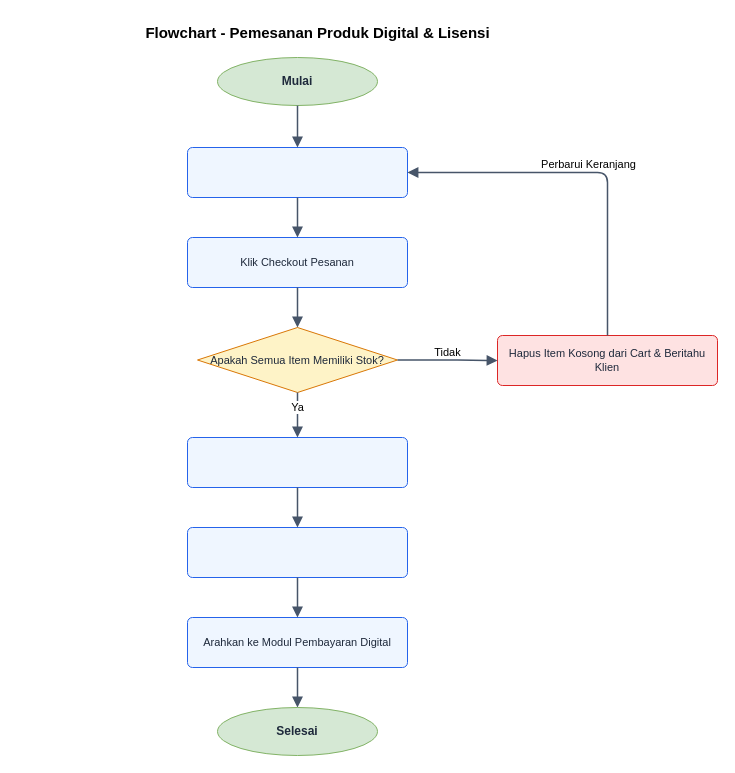
This 735x773 diagram has some shape labels left out. The box of each missing label's shape, as (x1, y1, x2, y2) in pixels:
Buat Data Pesanan (orders & order_items): (186, 436, 408, 488)
Buka Keranjang Belanja & Periksa Item: (186, 146, 408, 198)
Terbitkan Invoice Tagihan (Status: Unpaid): (186, 526, 408, 578)
